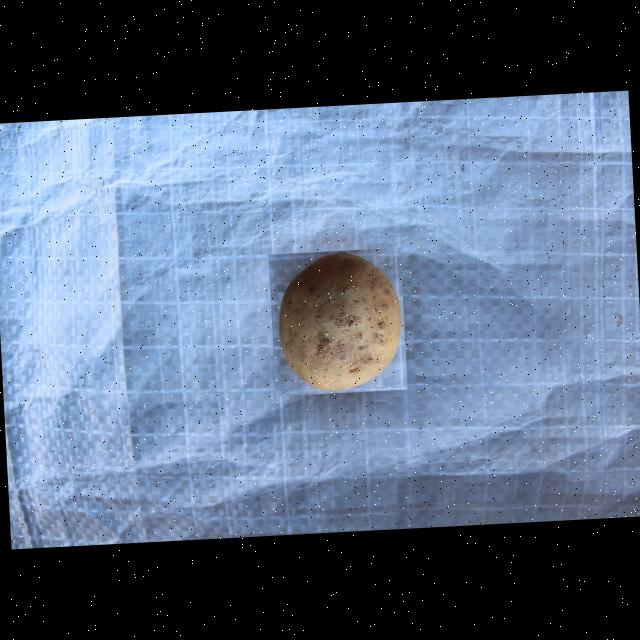Diseased-fungal potato: (268, 248, 408, 397)
